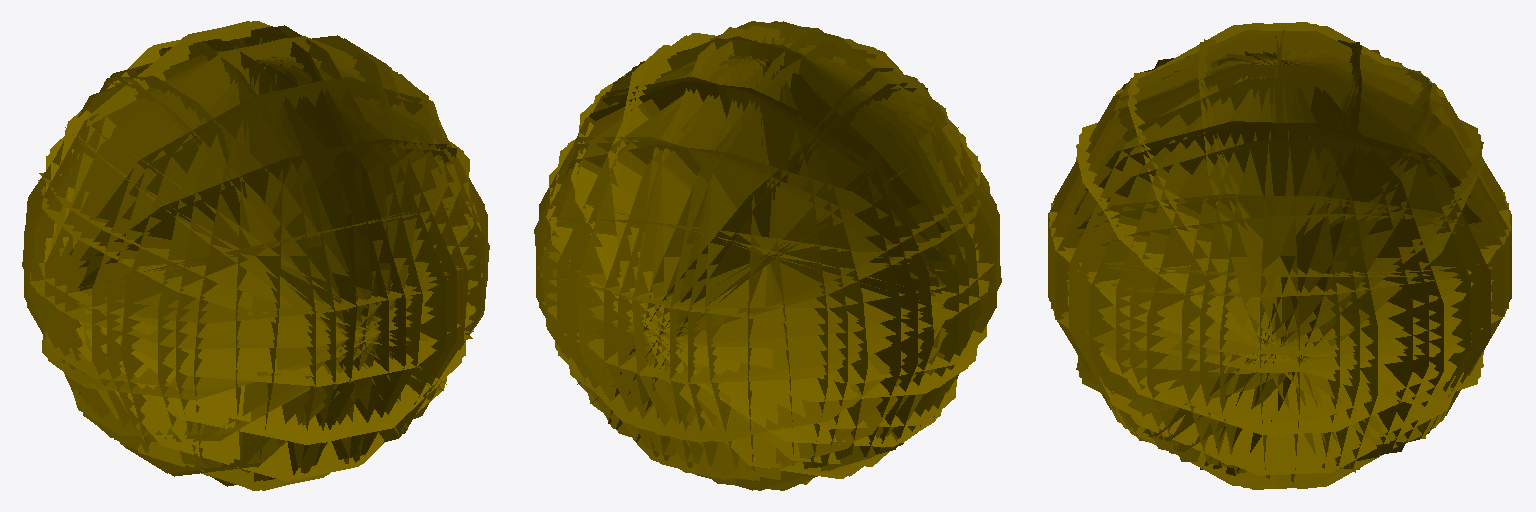
Rendered from Cor.obj.
3 renders of one model, left to right at view 1: azimuth 30°, elevation 25°; view 2: azimuth 150°, elevation 25°; view 3: azimuth 270°, elevation 25°, orthographic.
Parts seen in each view (by area): view 1: CenterGalo003; view 2: CenterGalo003; view 3: CenterGalo003.
Boxes of the visible parts, box(x1,y1,x2,y2) form: CenterGalo003: box(22, 21, 489, 490); CenterGalo003: box(534, 21, 1001, 490); CenterGalo003: box(1048, 22, 1511, 489).
Size of the model in its own units: 509 by 509 by 502.